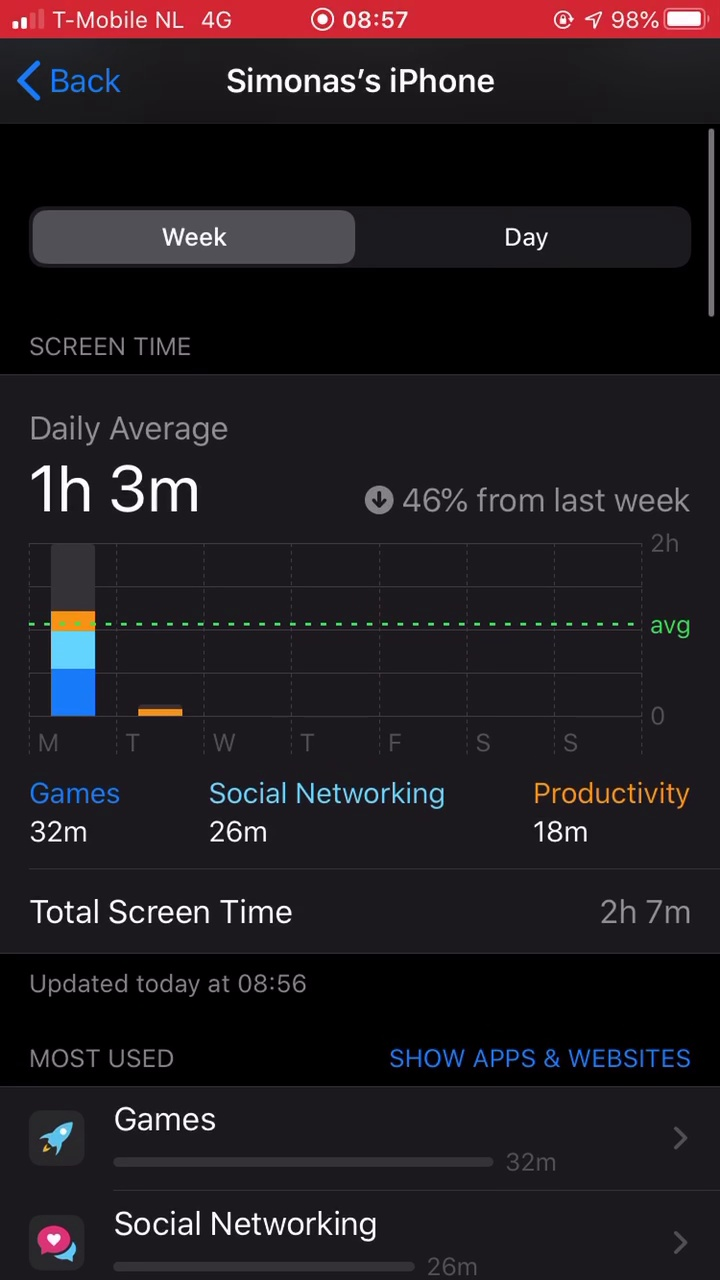use_over: (18, 772, 703, 952)
